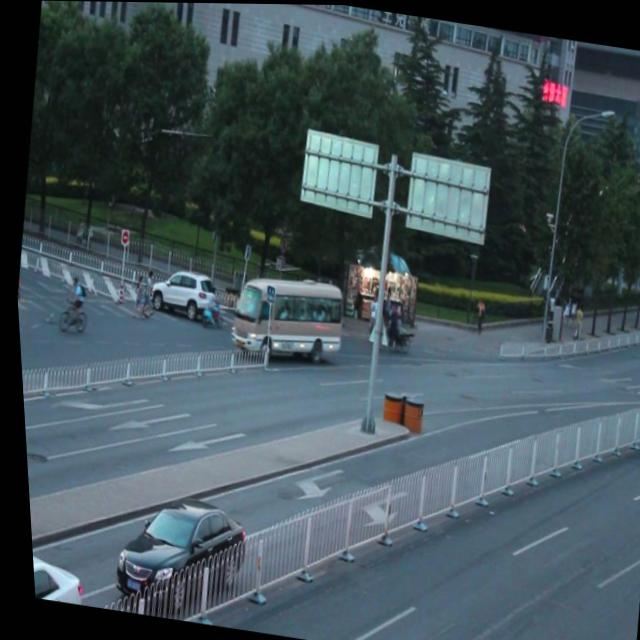car: (102, 488, 248, 623), (144, 264, 215, 324), (25, 544, 80, 605)
truck: (223, 273, 344, 364)
